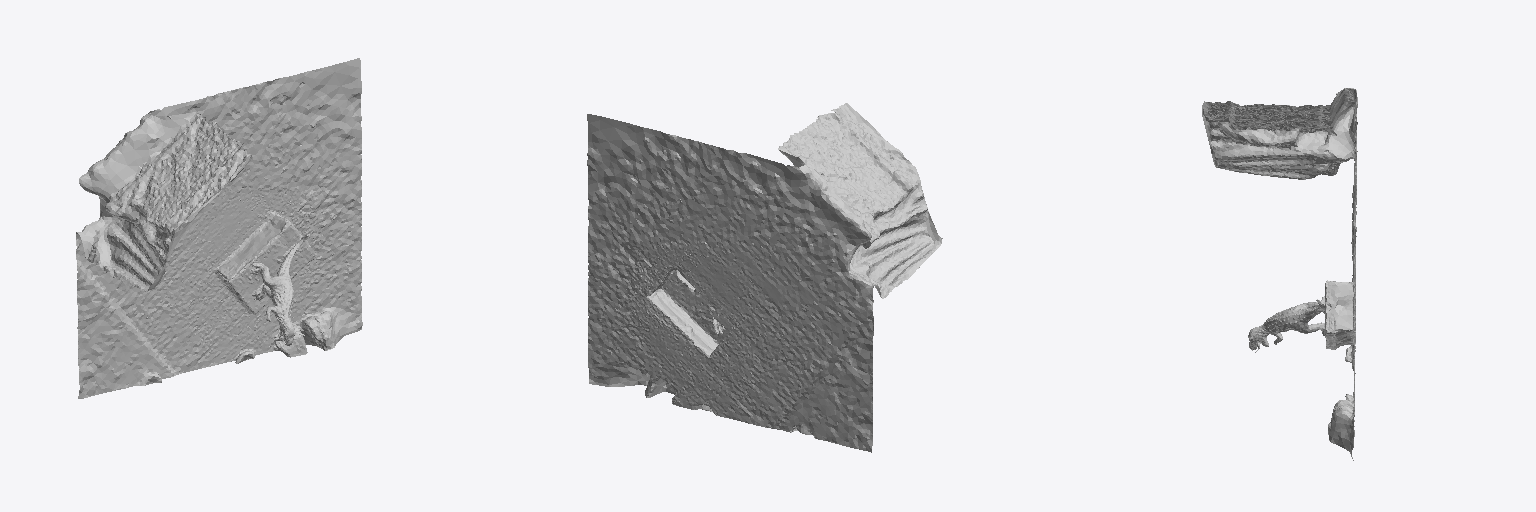
Rendered from Dinosaur.obj.
3 renders of one model, left to right at view 1: azimuth 30°, elevation 25°; view 2: azimuth 150°, elevation 25°; view 3: azimuth 270°, elevation 25°, orthographic.
Visible parts, largest first — view 1: Mesh_0.001; view 2: Mesh_0.001; view 3: Mesh_0.001.
Part boxes in pixels (left/top/right/bottom): Mesh_0.001: left=76, top=58, right=362, bottom=398; Mesh_0.001: left=587, top=103, right=942, bottom=452; Mesh_0.001: left=1202, top=88, right=1357, bottom=460.
Size of the model in its own units: 1.45 by 1.32 by 0.687.